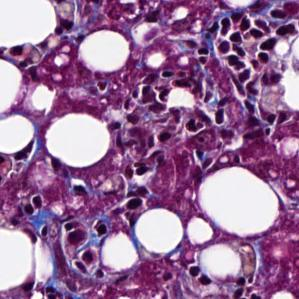inflammation: (209, 9, 296, 124), (108, 112, 174, 209), (136, 68, 210, 113), (63, 220, 112, 281), (8, 192, 50, 237), (187, 265, 215, 288)
